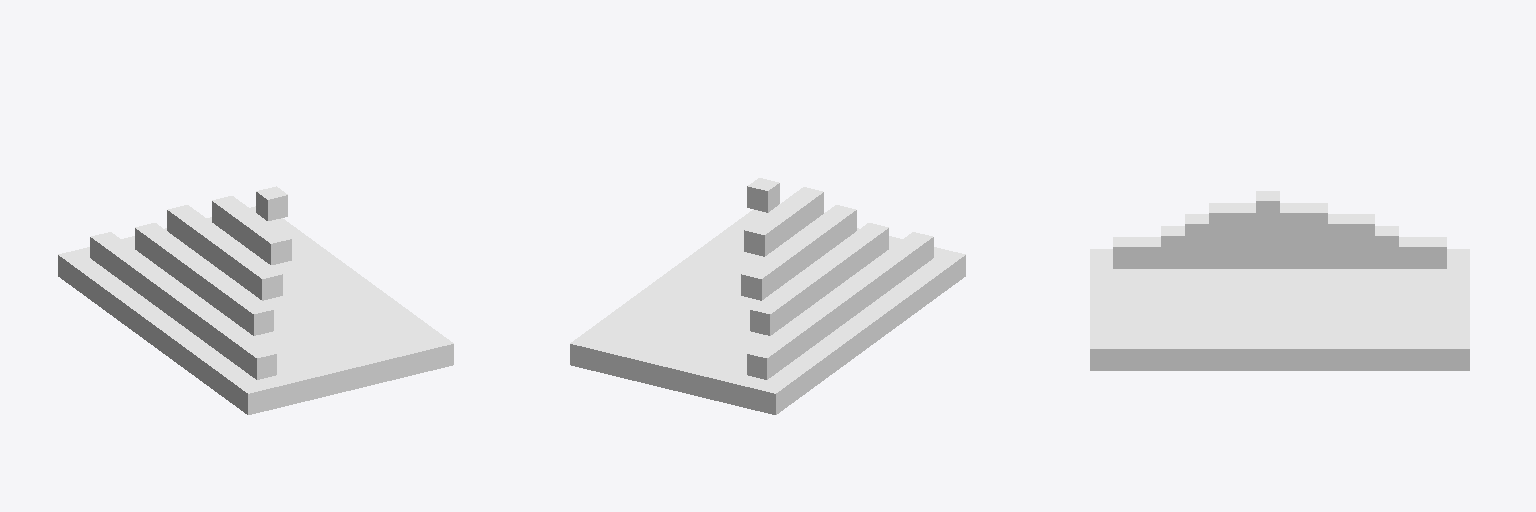
File: carta3.obj
3 views of the same model, side by side, from view 1: azimuth 30°, elevation 25°; view 2: azimuth 150°, elevation 25°; view 3: azimuth 270°, elevation 25° (orthographic).
Visible parts, largest first — view 1: object 1; view 2: object 1; view 3: object 1.
Boxes of the visible parts, x1,y1,x2,y2 form: object 1: [58, 186, 453, 414]; object 1: [570, 178, 965, 414]; object 1: [1090, 191, 1469, 370].
Size of the model in its own units: 1 by 0.6 by 1.6.